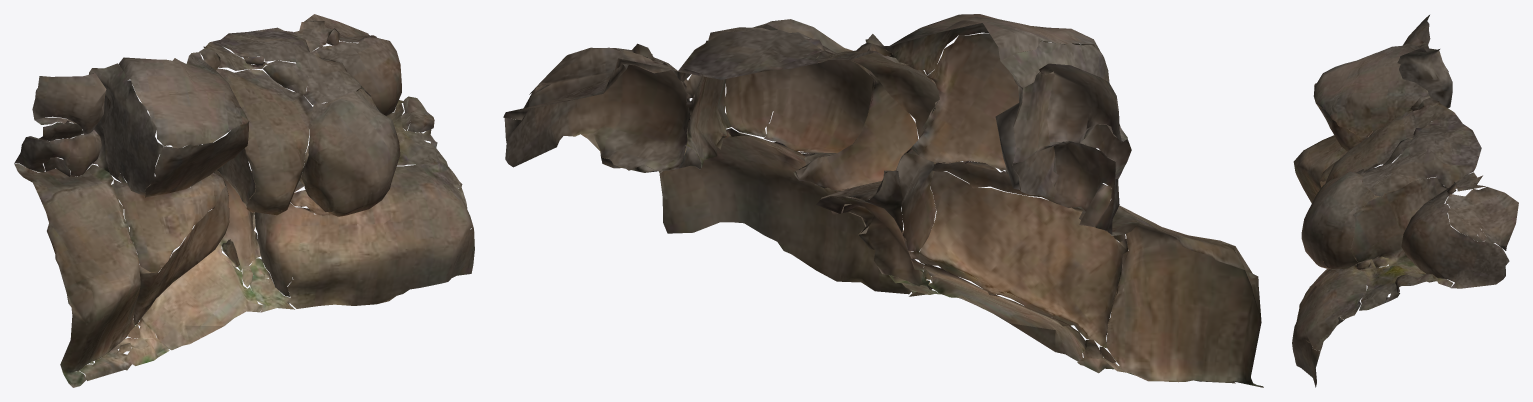
Rendered from namaqualand_cliff_01.glb.
3 views of the same model, side by side, from view 1: azimuth 30°, elevation 25°; view 2: azimuth 150°, elevation 25°; view 3: azimuth 270°, elevation 25° (orthographic). The views are drawn at different scales.
Parts seen in each view (by area): view 1: drone_rock_01; view 2: drone_rock_01; view 3: drone_rock_01.
Boxes of the visible parts, left/top/right/bottom form: drone_rock_01: left=14, top=14, right=474, bottom=387; drone_rock_01: left=503, top=14, right=1263, bottom=387; drone_rock_01: left=1292, top=15, right=1518, bottom=387.
Size of the model in its own units: 8.27 by 4.95 by 4.38.
Materials: 1 (1 with a texture image).
